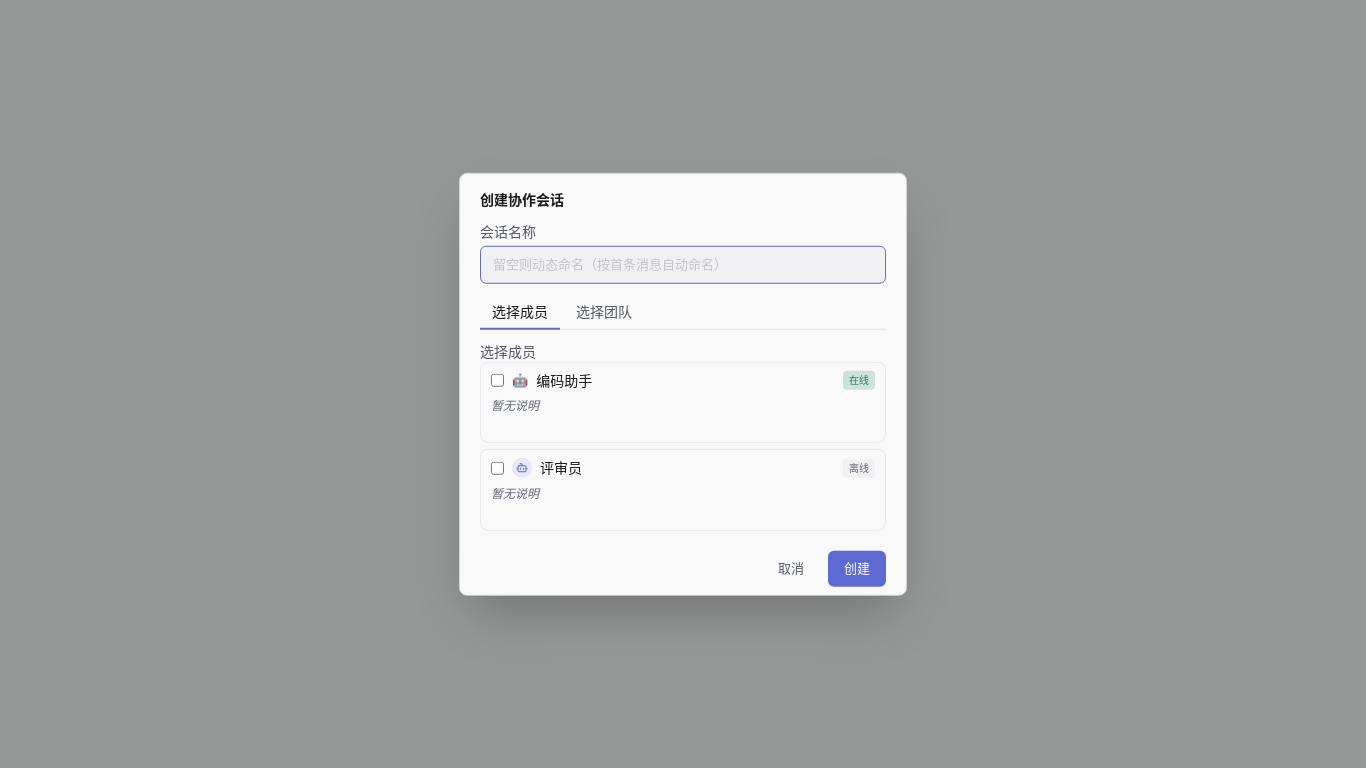
CollabSessionDialog — 校验 › 未选目标提交 → 提示选择会话成员
Click the button "创建".
click(857, 569)  # box [828,551,886,586]
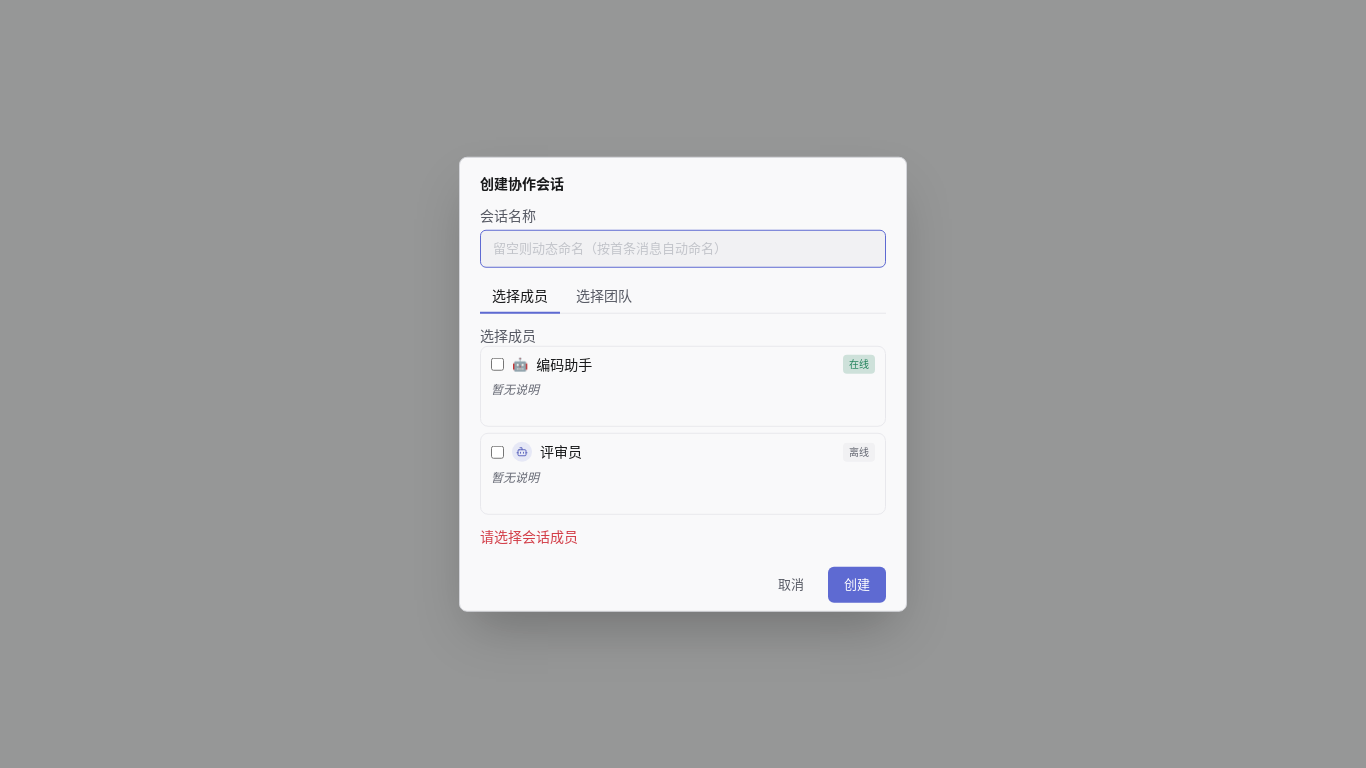
Check: the text "请选择会话成员" is shown, box [480,528,578,545]
